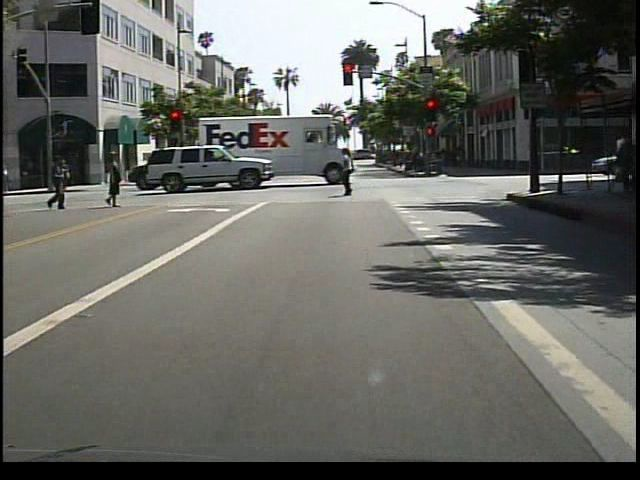person: (604, 134, 635, 200), (102, 149, 127, 212), (47, 155, 74, 210), (339, 147, 366, 198)
